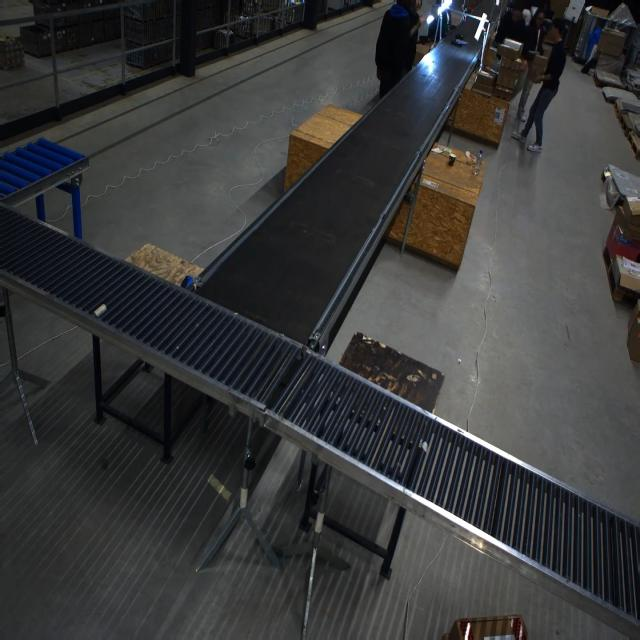product: (452, 38, 467, 46)
